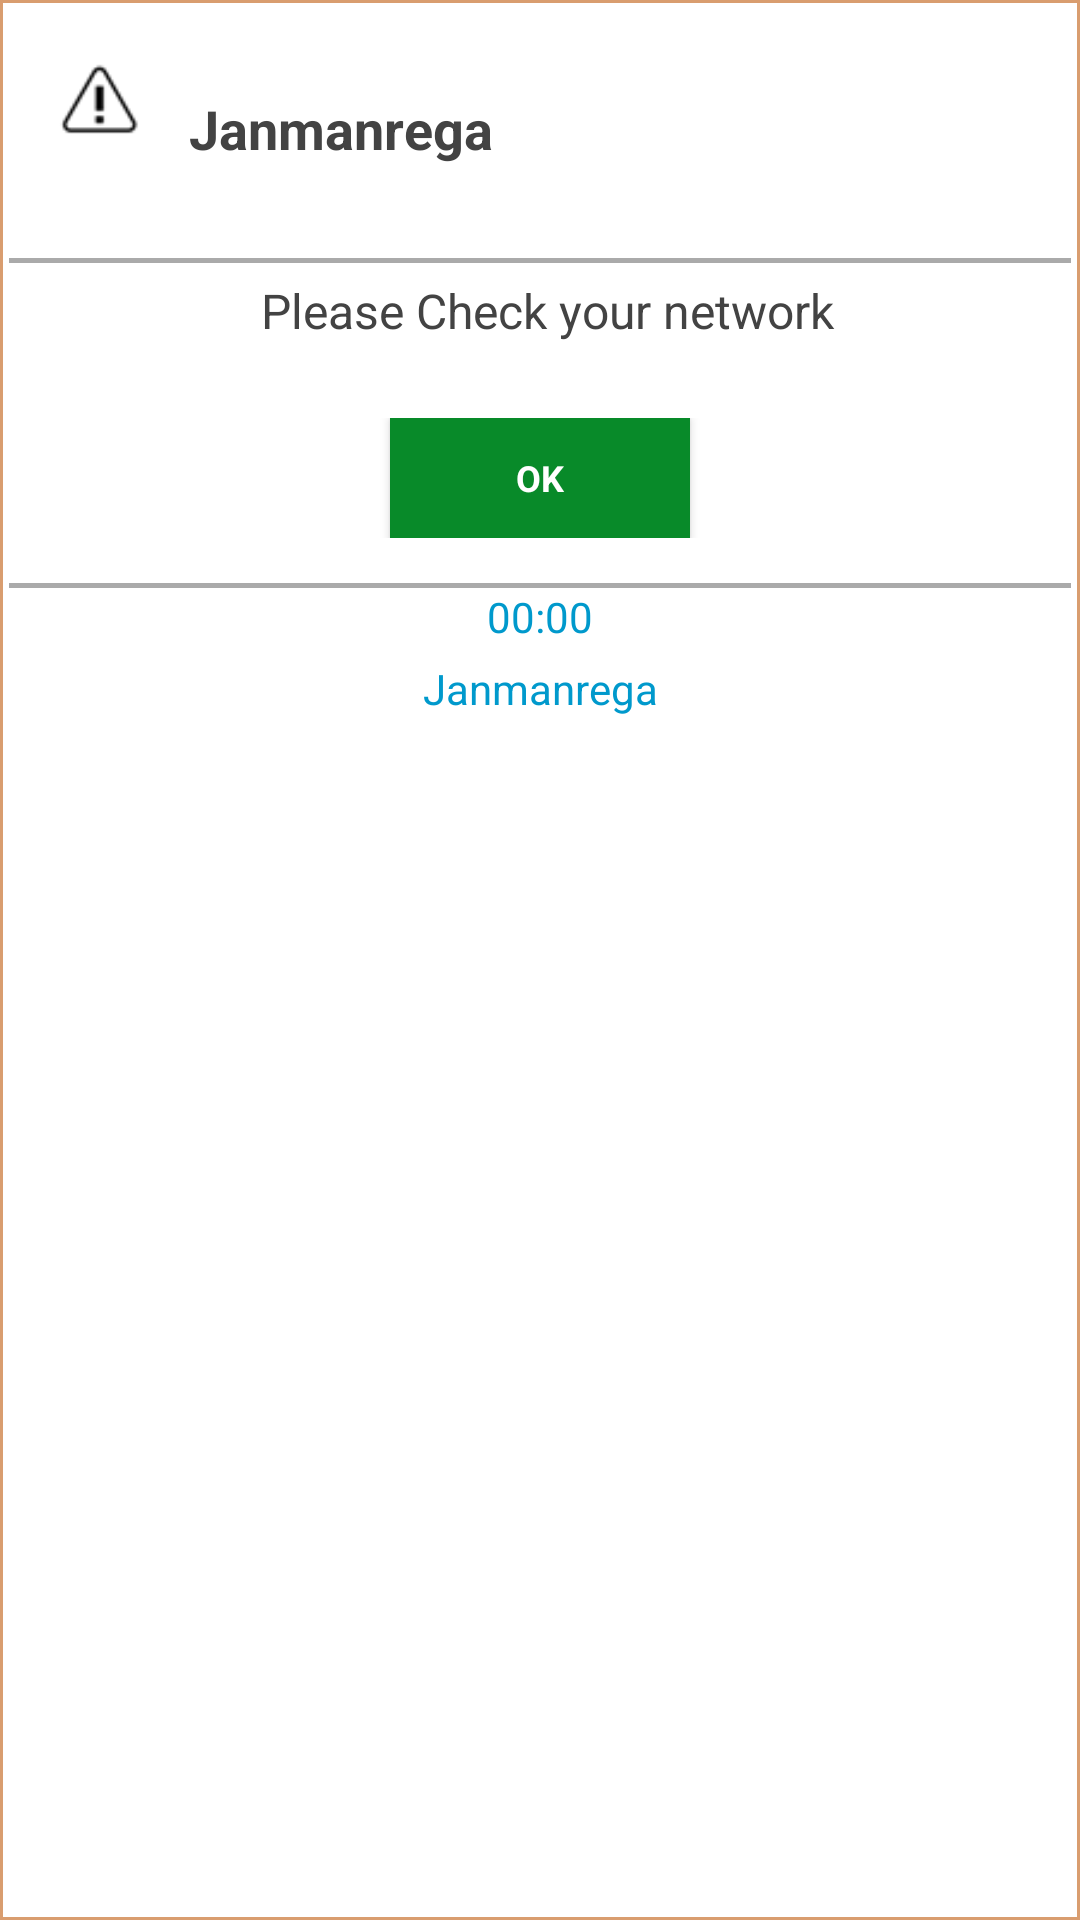

Locate icon controls on the screen. Image size 1080 × 1920, boxes as (x1, y1, x2, y2).
warning: (62, 65, 138, 134)
